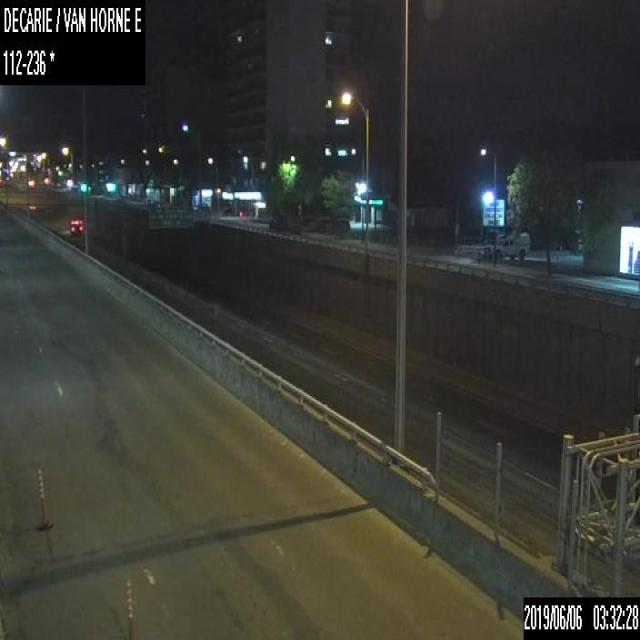construction: (35, 468, 50, 532), (122, 578, 135, 638)
vehicle: (484, 230, 530, 259), (69, 217, 83, 236)
